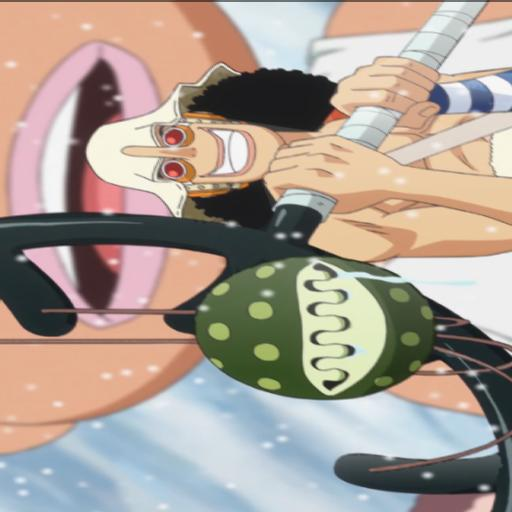Usopp: (83, 1, 512, 275)
